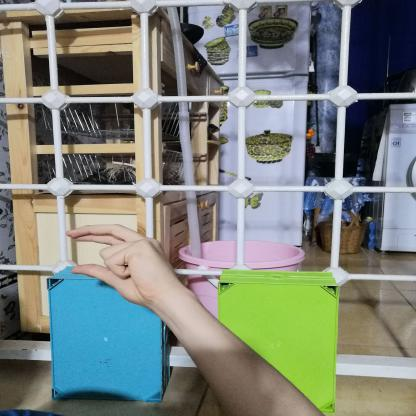DHELL: (55, 217, 185, 310)
